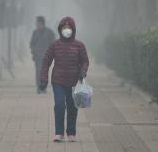person: (40, 15, 91, 143), (28, 16, 56, 96)
